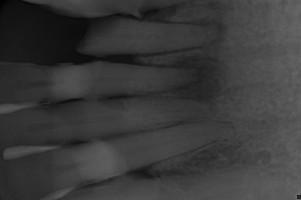Furcation Involvement: (167, 54, 223, 102)
